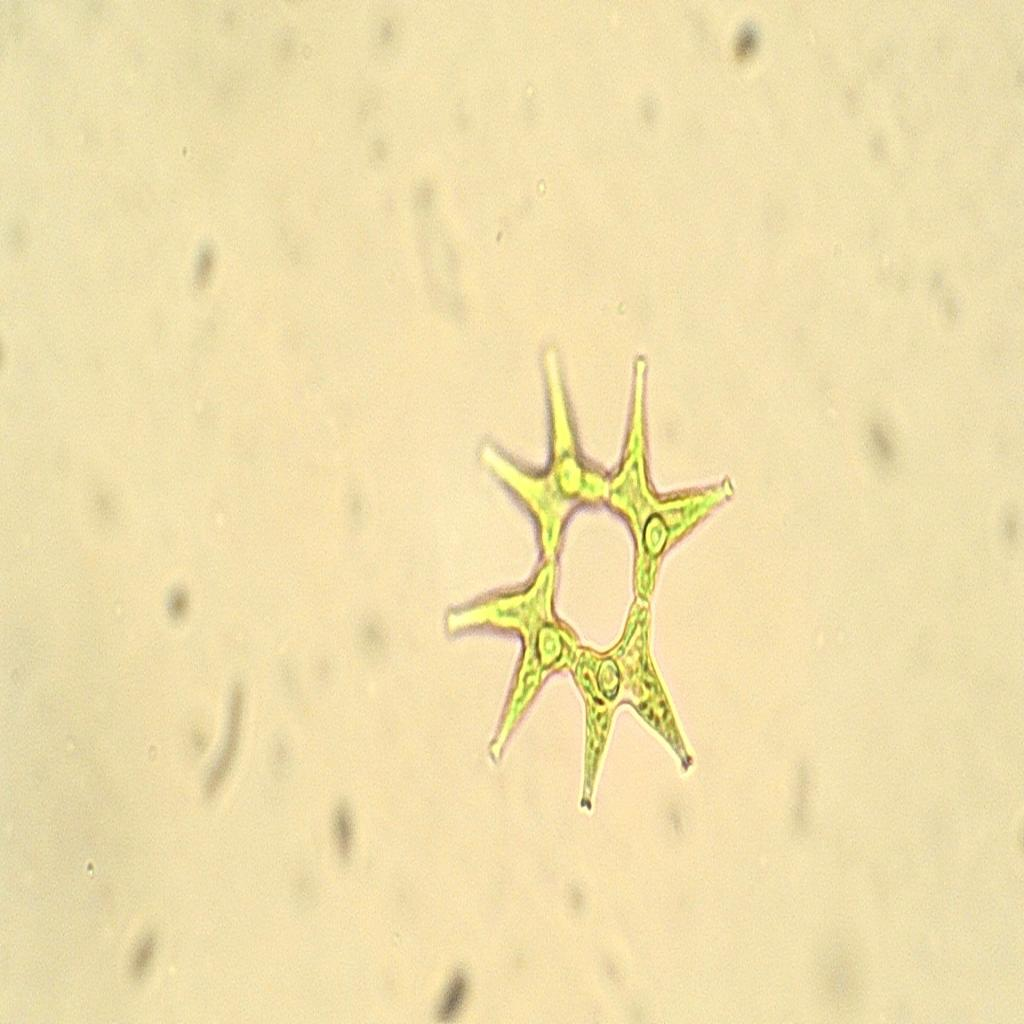Pediastrum_CO: (434, 317, 744, 838)
